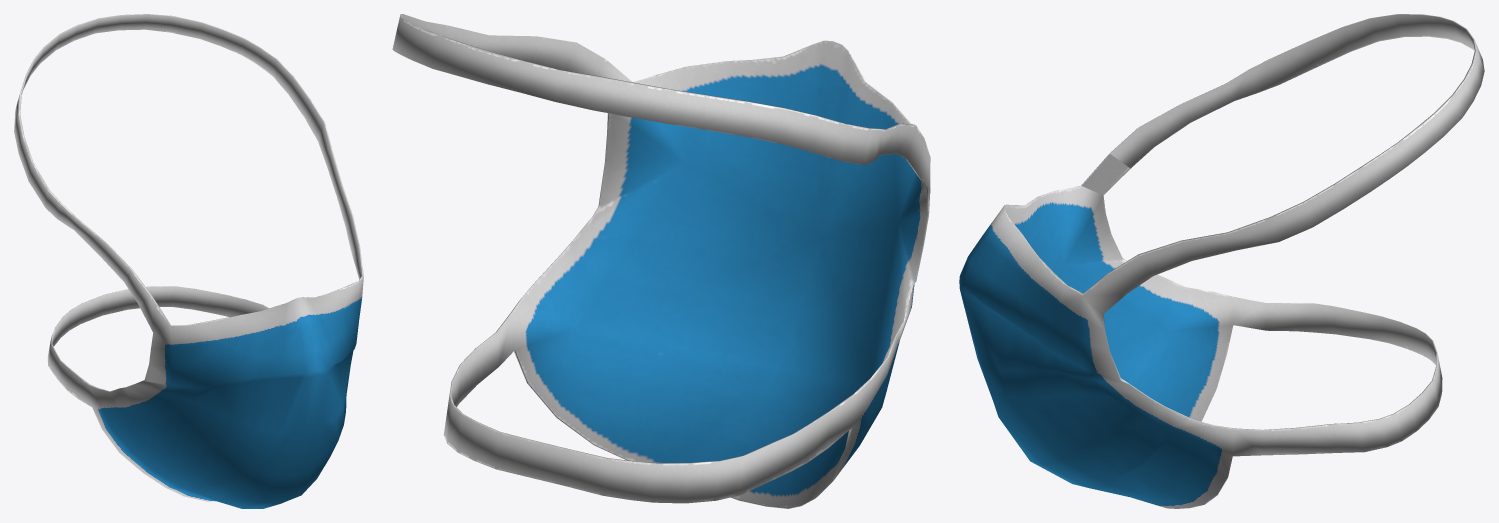
The model's file is Surgical Mask.fbx.
3 renders of one model, left to right at view 1: azimuth 30°, elevation 25°; view 2: azimuth 150°, elevation 25°; view 3: azimuth 270°, elevation 25°, orthographic. The views are drawn at different scales.
Parts seen in each view (by area): view 1: MASK_; view 2: MASK_; view 3: MASK_.
Part boxes in pixels (<box>): MASK_: <box>14,14,363,508</box>; MASK_: <box>392,14,930,508</box>; MASK_: <box>959,14,1484,508</box>.
Bounding box in the file's own units: 16.28 × 21.46 × 22.68.
1 material, 1 textured.
